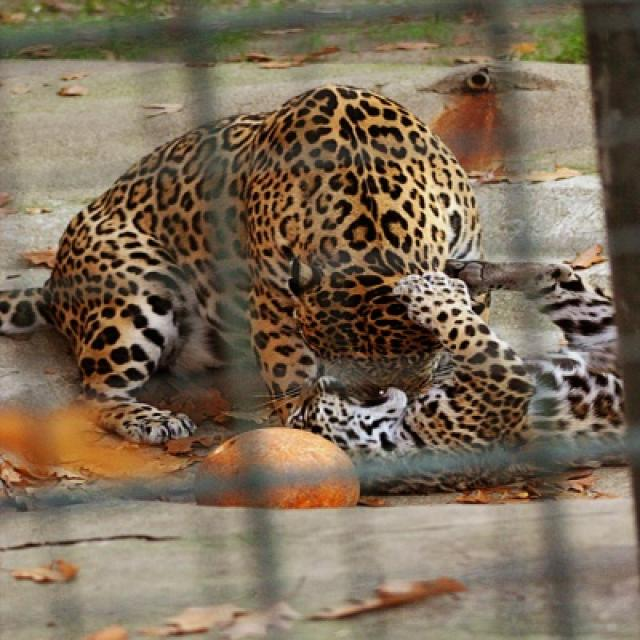not_pig: (0, 80, 630, 480)
